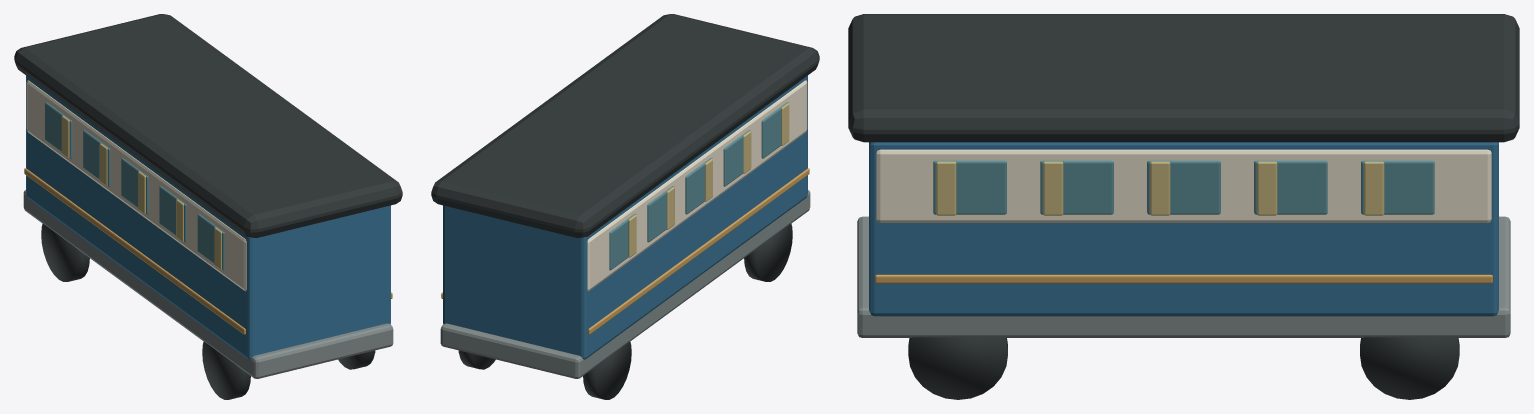
Rendered from coach_sleeper.glb.
The picture shows the model from 3 angles, left to right: view 1: azimuth 30°, elevation 25°; view 2: azimuth 150°, elevation 25°; view 3: azimuth 270°, elevation 25°; orthographic projection. The views are drawn at different scales.
Parts seen in each view (by area): view 1: coach_sleeper_black, coach_sleeper_navy, coach_sleeper_steel, coach_sleeper_ivory, coach_sleeper_glass, coach_sleeper_brass, coach_sleeper_straw; view 2: coach_sleeper_black, coach_sleeper_navy, coach_sleeper_steel, coach_sleeper_ivory, coach_sleeper_glass, coach_sleeper_brass, coach_sleeper_straw; view 3: coach_sleeper_black, coach_sleeper_navy, coach_sleeper_ivory, coach_sleeper_steel, coach_sleeper_glass, coach_sleeper_brass, coach_sleeper_straw.
Part boxes in pixels (x1,y1,x2,y2): coach_sleeper_black: (14,14,402,399); coach_sleeper_navy: (26,75,390,359); coach_sleeper_steel: (23,190,393,378); coach_sleeper_ivory: (26,80,246,291); coach_sleeper_glass: (45,102,224,270); coach_sleeper_brass: (24,168,392,334); coach_sleeper_straw: (61,115,222,269); coach_sleeper_black: (431,14,819,399); coach_sleeper_navy: (443,75,807,359); coach_sleeper_steel: (440,190,810,378); coach_sleeper_ivory: (587,80,807,291); coach_sleeper_glass: (609,102,788,270); coach_sleeper_brass: (441,168,809,334); coach_sleeper_straw: (628,103,789,257); coach_sleeper_black: (848,14,1519,399); coach_sleeper_navy: (869,142,1498,316); coach_sleeper_ivory: (876,149,1491,222); coach_sleeper_steel: (857,216,1510,337); coach_sleeper_glass: (933,160,1434,214); coach_sleeper_brass: (875,274,1492,283); coach_sleeper_straw: (936,161,1384,215).
Size of the model in its own units: 2.15 by 2.7 by 5.65.
